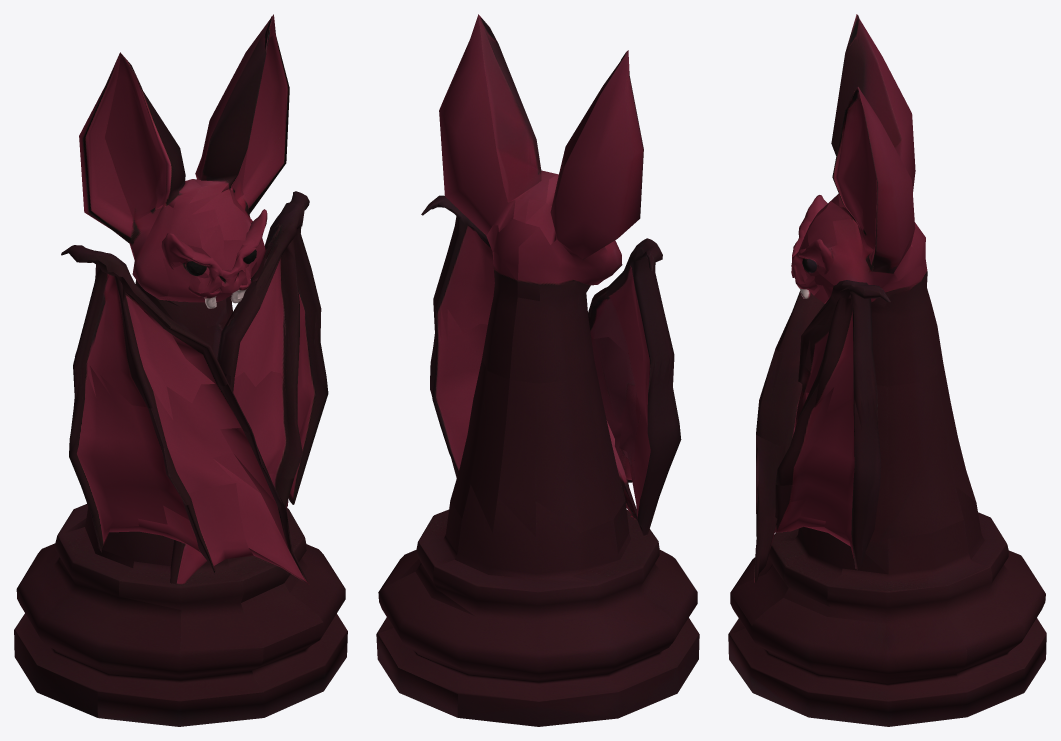
Rendered from Meshy_AI_Crimson_Bat_Statue_0726160135_texture.glb.
3 views of the same model, side by side, from view 1: azimuth 30°, elevation 25°; view 2: azimuth 150°, elevation 25°; view 3: azimuth 270°, elevation 25° (orthographic). The views are drawn at different scales.
Parts seen in each view (by area): view 1: mesh_node; view 2: mesh_node; view 3: mesh_node.
Part boxes in pixels (x1,y1,x2,y2): mesh_node: (14, 14, 347, 726); mesh_node: (376, 14, 699, 726); mesh_node: (728, 14, 1046, 726).
Size of the model in its own units: 0.4756 by 1 by 0.4736.
1 material, 1 textured.
